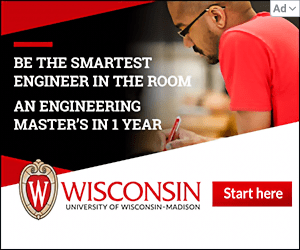fake_button: (206, 179, 296, 216), (266, 0, 300, 22)
